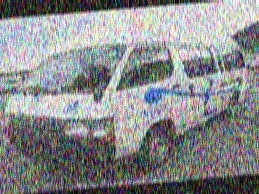van: (1, 25, 256, 174)
